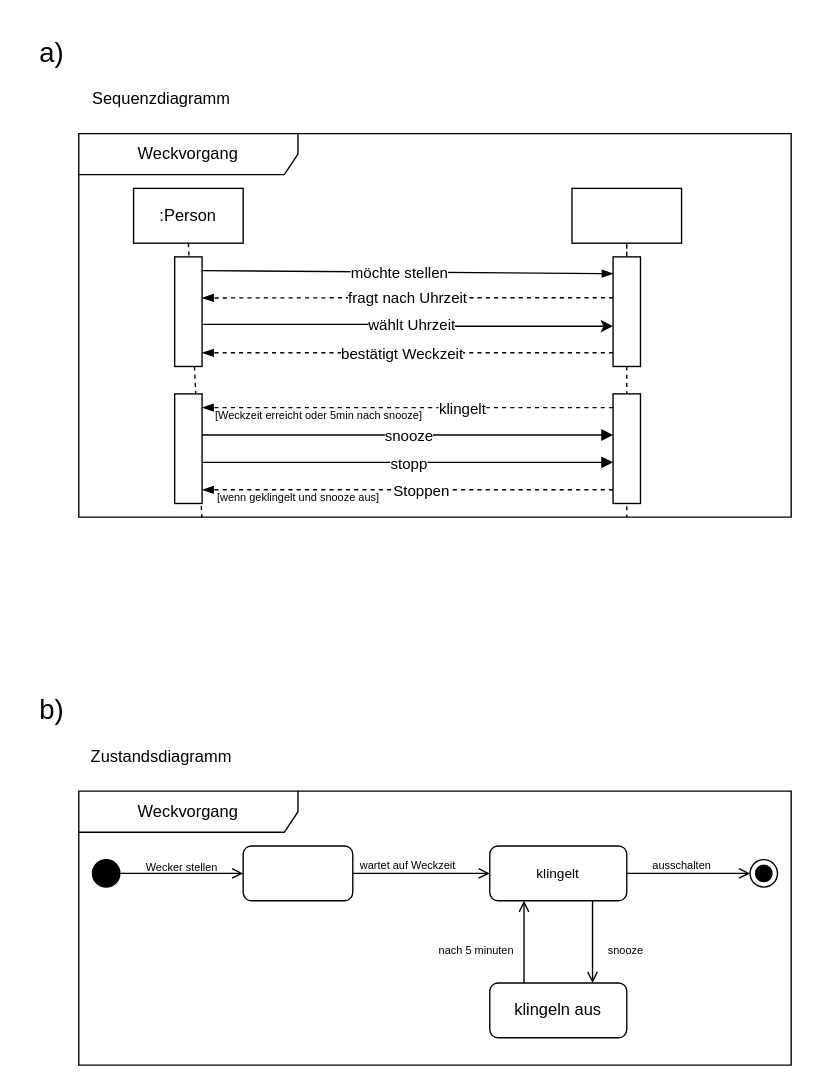
This 815x1089 diagram has some shape labels left out. The centre of each missing label's shape, as x and y in pixels:
":Wecker" belongs at (626,215).
"Weckzeit" belongs at (297,873).
